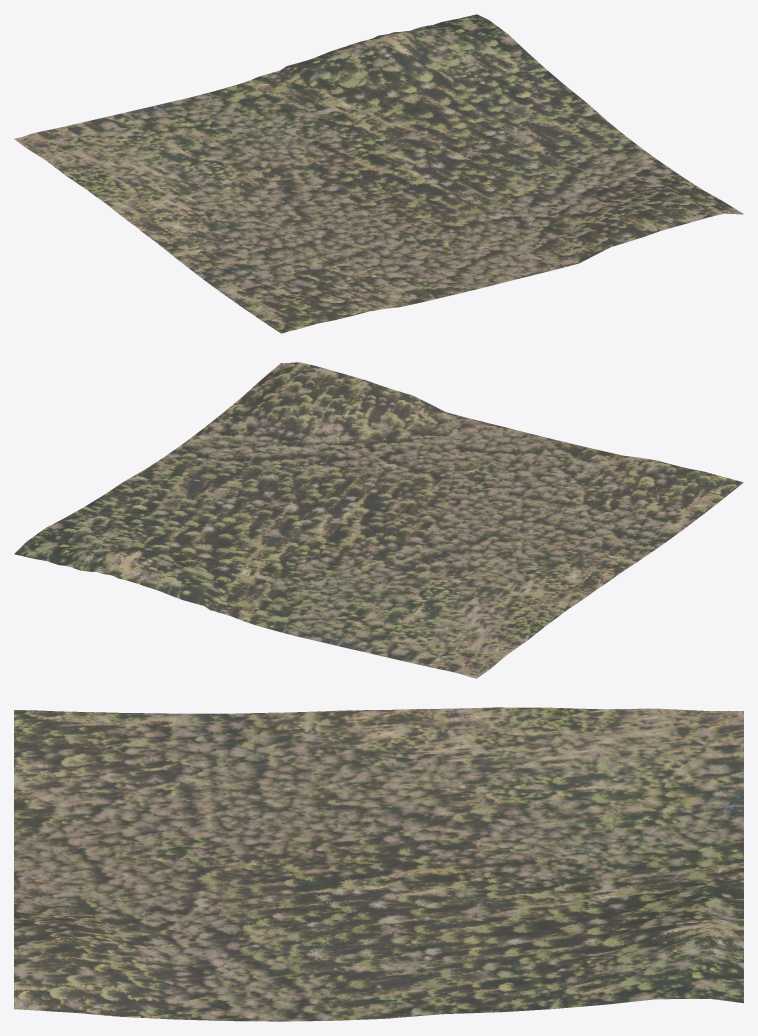
File: CM_Terrain_24492916_6814264.fbx
3 views of the same model, one above another, from view 1: azimuth 30°, elevation 25°; view 2: azimuth 150°, elevation 25°; view 3: azimuth 270°, elevation 25° (orthographic). The views are drawn at different scales.
Parts seen in each view (by area): view 1: CM_Terrain_24492916_6814264_LOD0; view 2: CM_Terrain_24492916_6814264_LOD0; view 3: CM_Terrain_24492916_6814264_LOD0.
Part boxes in pixels (left/top/right/bottom): CM_Terrain_24492916_6814264_LOD0: left=14, top=14, right=743, bottom=333; CM_Terrain_24492916_6814264_LOD0: left=14, top=362, right=743, bottom=678; CM_Terrain_24492916_6814264_LOD0: left=14, top=707, right=743, bottom=1021.
Size of what is drawn, in the model's own units: 205 by 10.75 by 205.
